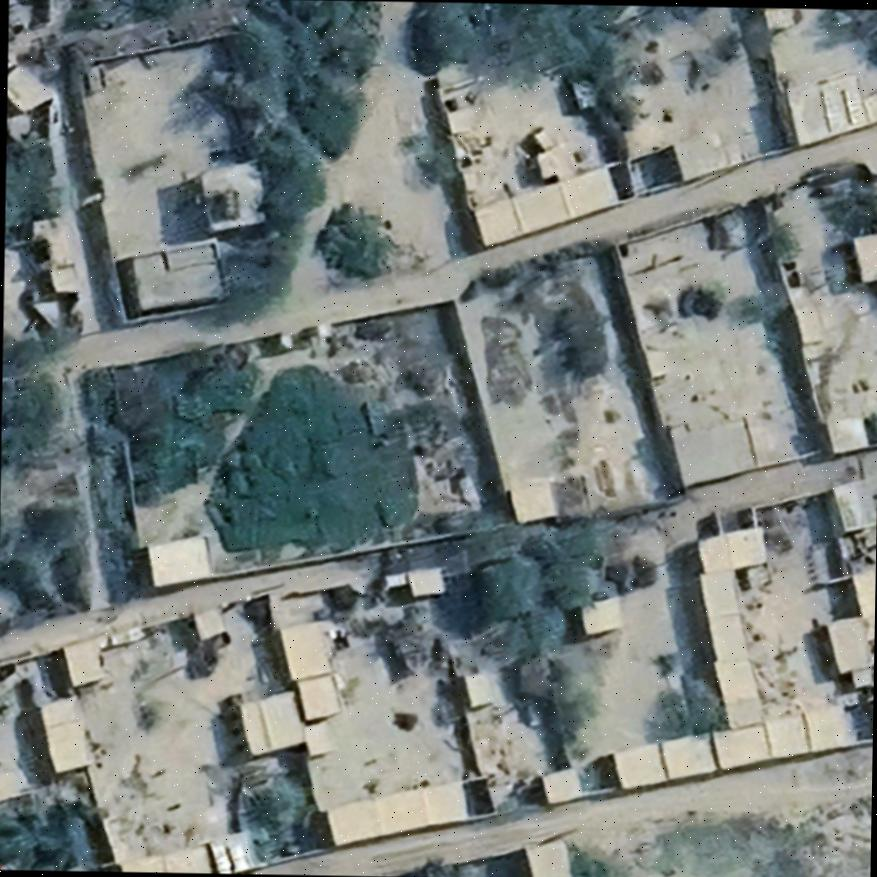Solarpanel: (819, 88, 842, 132), (840, 84, 862, 123)
